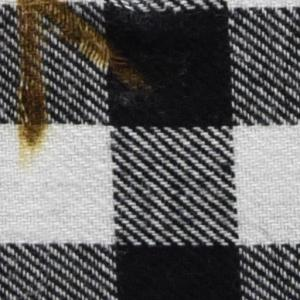Oil Stain: (18, 1, 157, 156)
